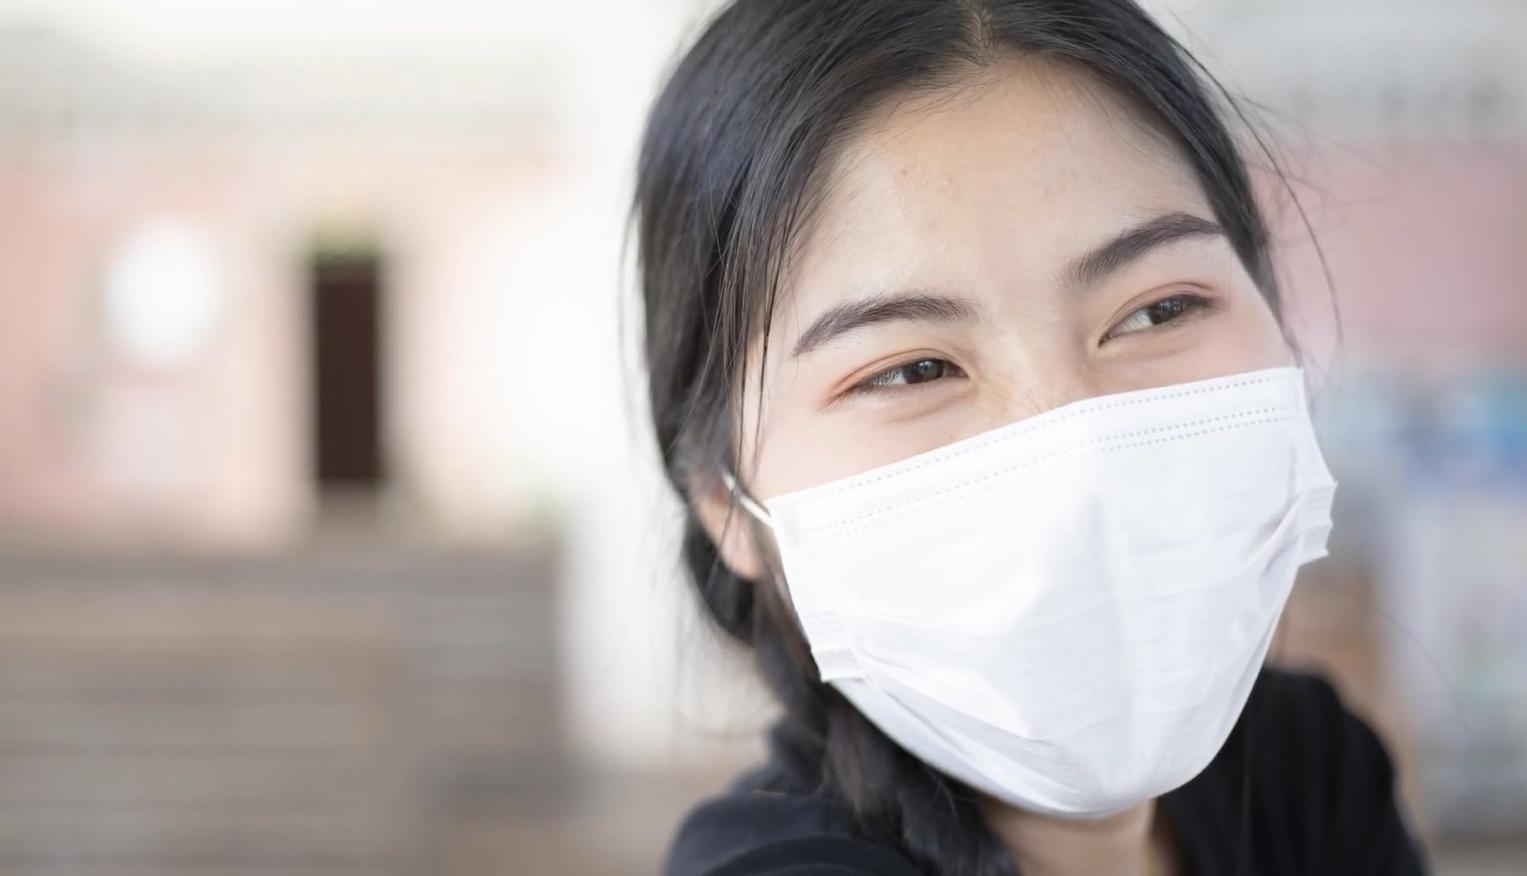with_mask: (775, 200, 1255, 731)
